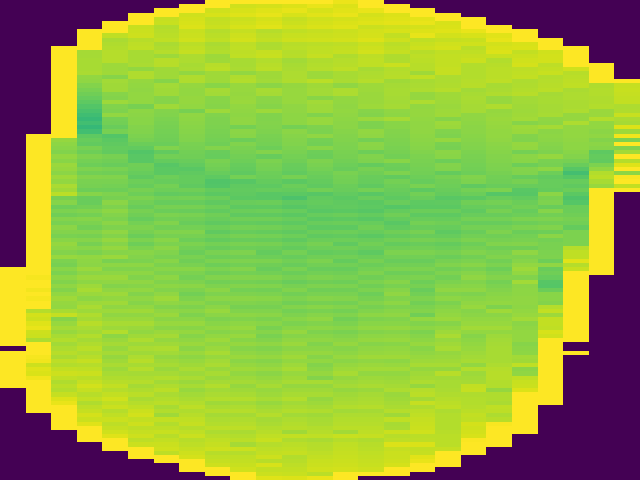cylinder: (1, 3, 640, 480)
